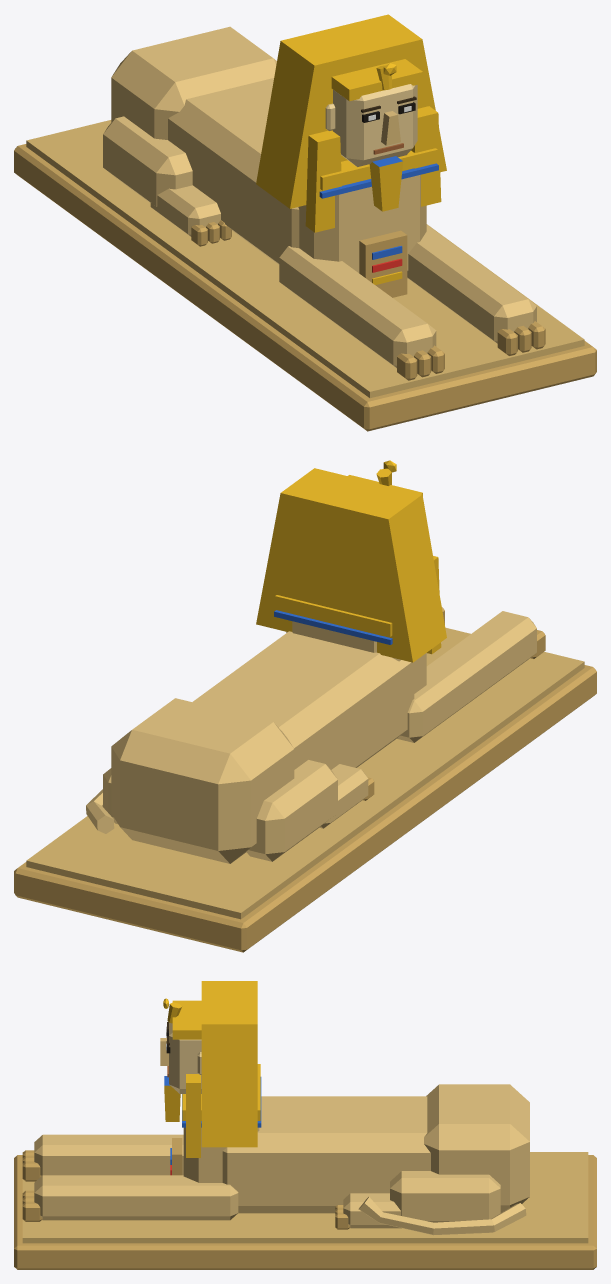
Rendered from sphinx-lowpoly.glb.
3 renders of one model, top to bottom at view 1: azimuth 30°, elevation 25°; view 2: azimuth 150°, elevation 25°; view 3: azimuth 270°, elevation 25°, orthographic. The views are drawn at different scales.
Visible parts, largest first — view 1: sphinx; view 2: sphinx; view 3: sphinx.
Boxes of the visible parts, box(x1,y1,x2,y2) form: sphinx: box(14, 14, 596, 431); sphinx: box(14, 460, 596, 952); sphinx: box(14, 981, 596, 1269).
Bounding box in the file's own units: 19 × 21.4 × 50.
Materials: 1 (1 with a texture image).
